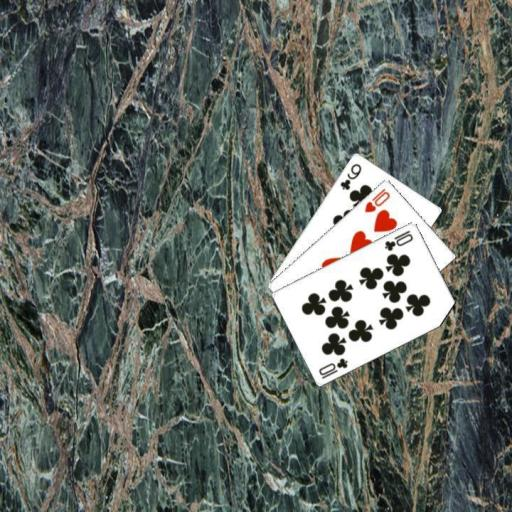card-corner: (361, 185, 392, 214), (381, 227, 415, 252), (316, 355, 349, 380), (337, 160, 363, 191)
